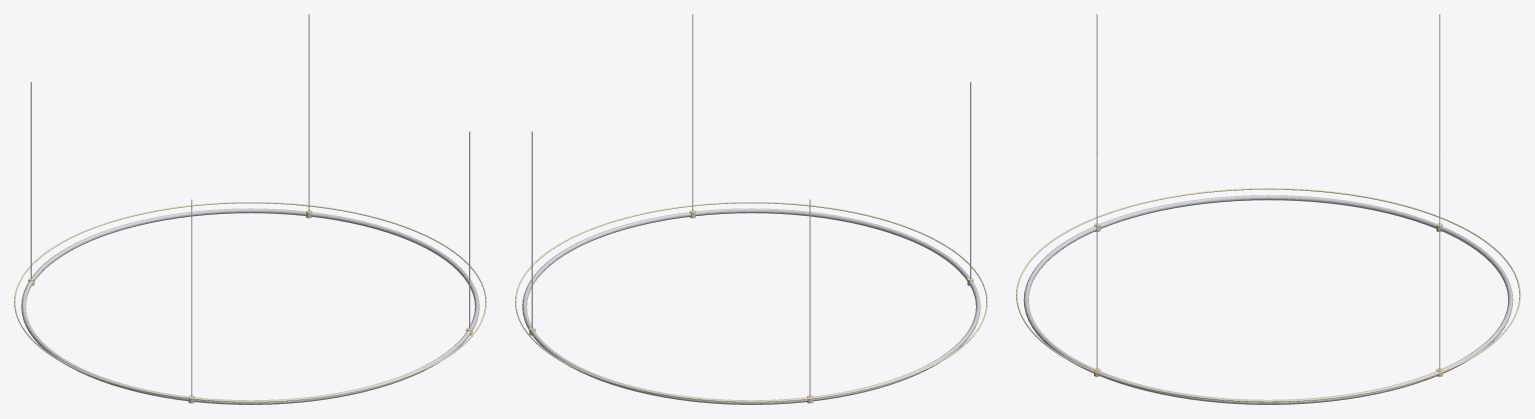
File: circular_rail_static.glb
3 views of the same model, side by side, from view 1: azimuth 30°, elevation 25°; view 2: azimuth 150°, elevation 25°; view 3: azimuth 270°, elevation 25° (orthographic). The views are drawn at different scales.
Visible parts, largest first — view 1: Suspension_Guide_Rail, Gold_Accent_Ring; view 2: Suspension_Guide_Rail, Gold_Accent_Ring; view 3: Suspension_Guide_Rail, Gold_Accent_Ring.
Boxes of the visible parts, bbox=[...] form: Suspension_Guide_Rail: bbox=[21, 208, 479, 404]; Gold_Accent_Ring: bbox=[14, 202, 486, 402]; Suspension_Guide_Rail: bbox=[522, 208, 980, 404]; Gold_Accent_Ring: bbox=[515, 202, 987, 402]; Suspension_Guide_Rail: bbox=[1023, 195, 1513, 404]; Gold_Accent_Ring: bbox=[1016, 188, 1520, 402].
Bounding box in the file's own units: 7.5 × 3.55 × 7.5.
